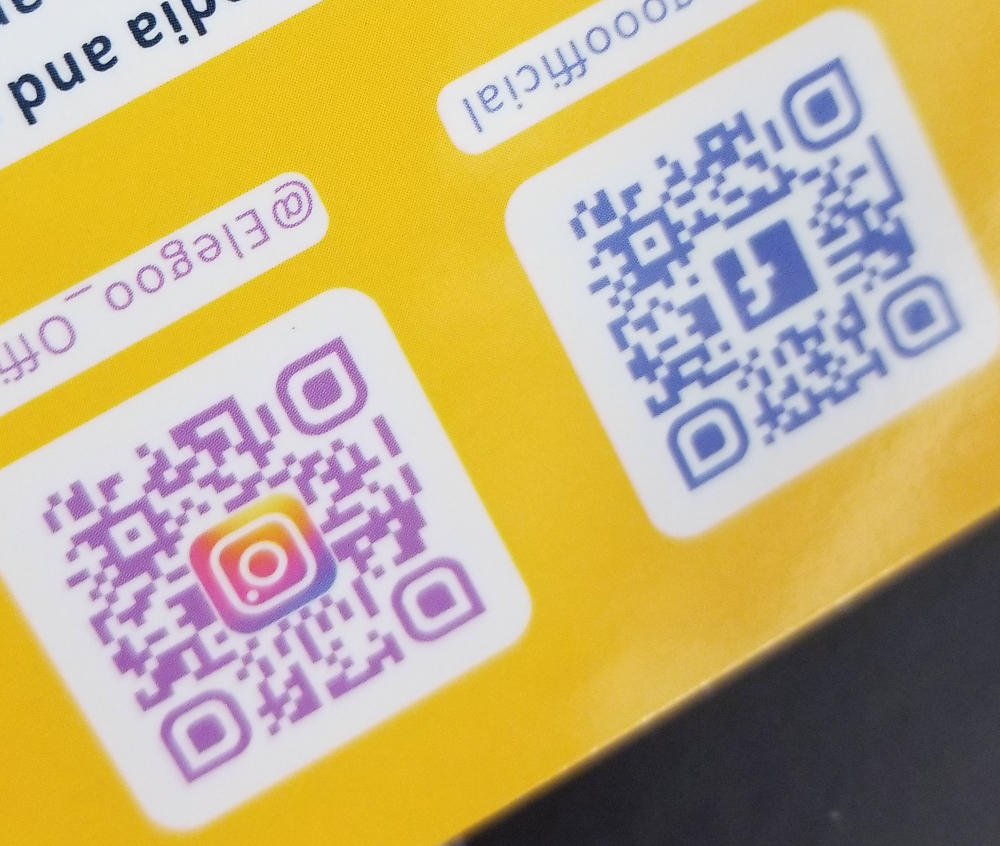QR_CODE: (27, 297, 500, 796), (545, 38, 976, 504)
